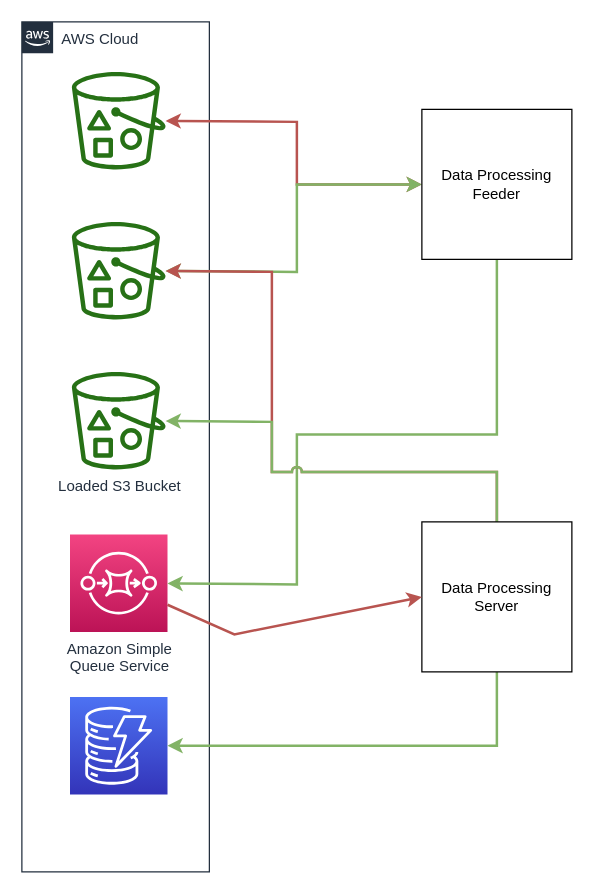
Image size: 594x894. Some labels were removed from this diagram. The shapes that lost their labels are listed below. From the top down, each one's box as (x1, y1, x2, y2) in pixels, then its label:
(71, 71, 165, 169): Input S3 Bucket
(71, 221, 165, 319): Processing S3 Bucket
(69, 696, 168, 794): Amazon DynamoDB
